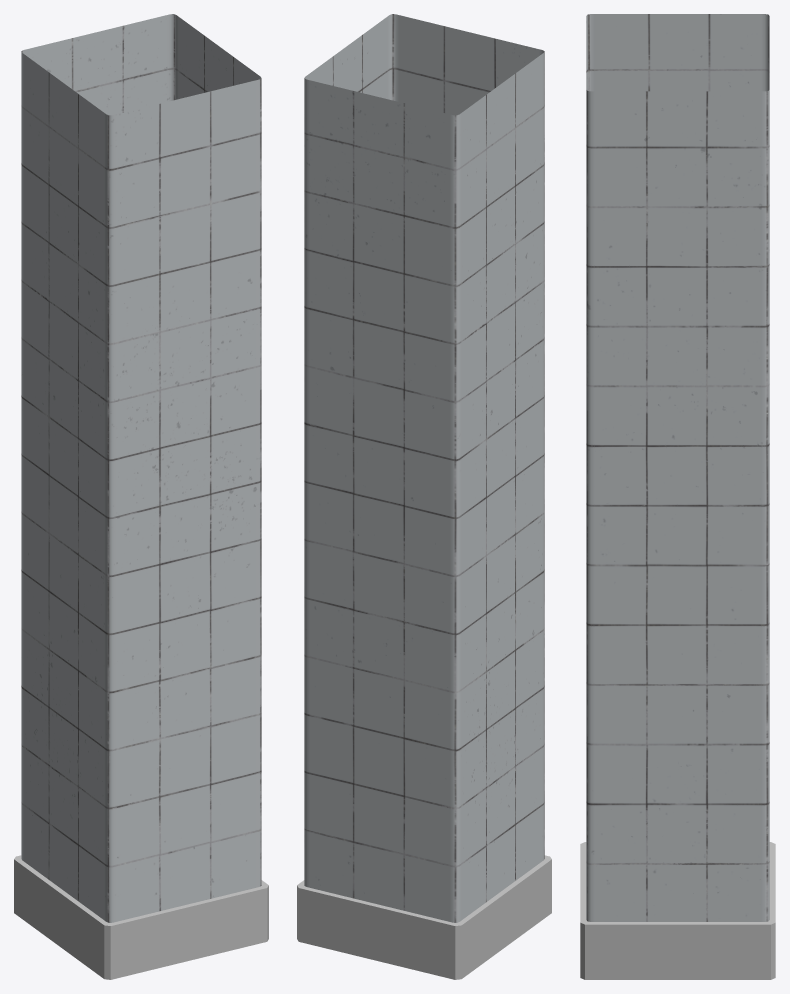
Rendered from pillar_c.fbx.
The picture shows the model from 3 angles, left to right: view 1: azimuth 30°, elevation 25°; view 2: azimuth 150°, elevation 25°; view 3: azimuth 270°, elevation 25°; orthographic projection. The views are drawn at different scales.
Parts seen in each view (by area): view 1: pillar_c; view 2: pillar_c; view 3: pillar_c.
Boxes of the visible parts, x1=… form: pillar_c: x1=14, y1=14, x2=268, y2=979; pillar_c: x1=297, y1=14, x2=551, y2=979; pillar_c: x1=580, y1=14, x2=775, y2=979.
Bounding box in the file's own units: 80 × 400 × 80.
